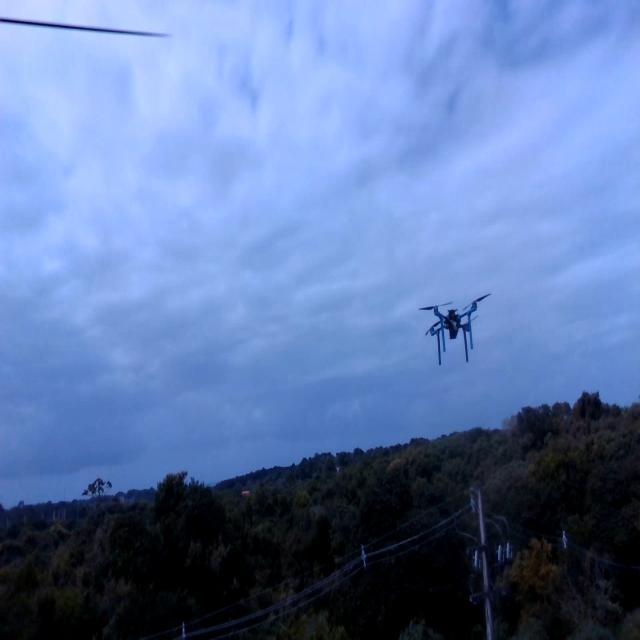-uav-: (406, 281, 495, 374)
